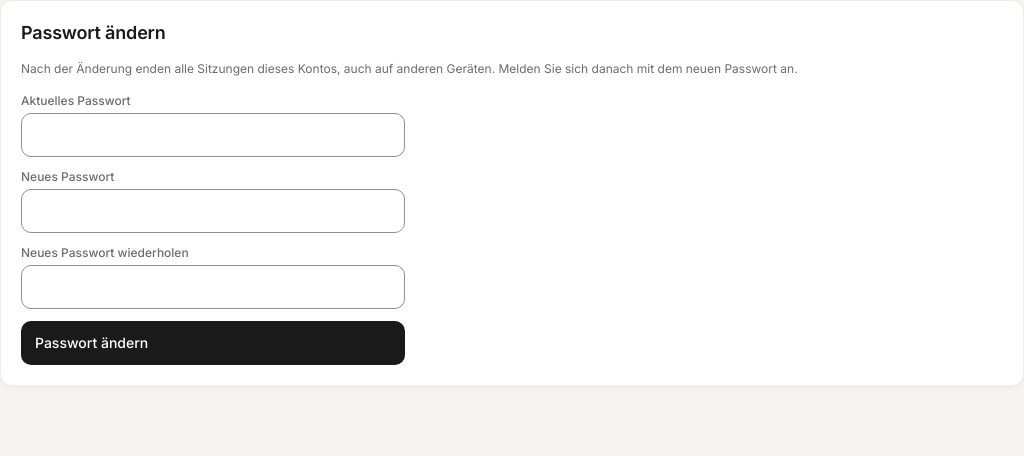
Test: AccountSessions (GAH-305) › refuses differing repetitions without a request
Type "alt-Passwort-1" into the password field labelled "Aktuelles Passwort" at (213, 135), box [21, 113, 405, 157]
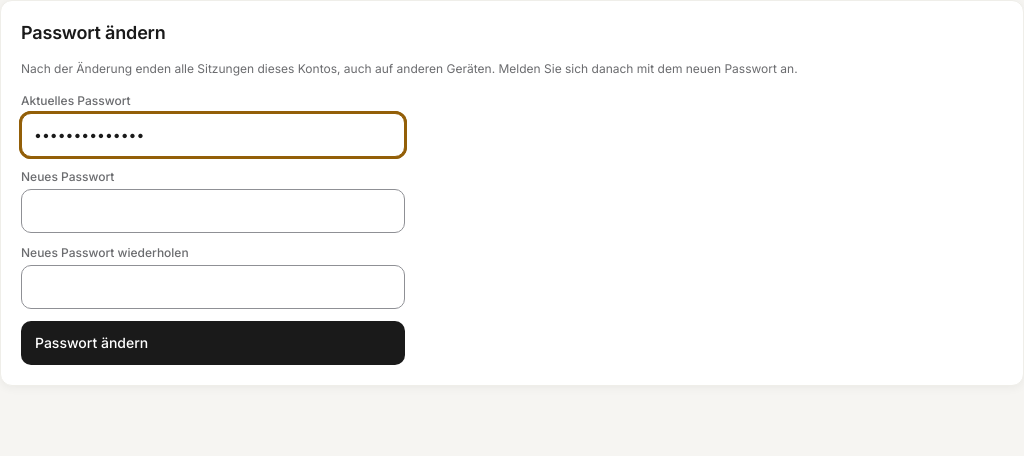
Type "neu-Passwort-12345" into the password field labelled "Neues Passwort" at (213, 211), box [21, 189, 405, 233]
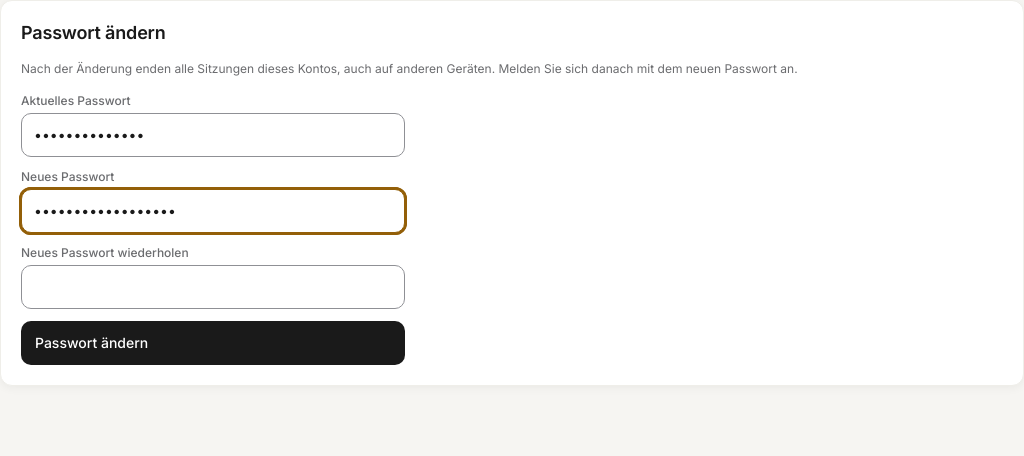
Type "anders-Passwort-1" into the password field labelled "Neues Passwort wiederholen" at (213, 287), box [21, 265, 405, 309]
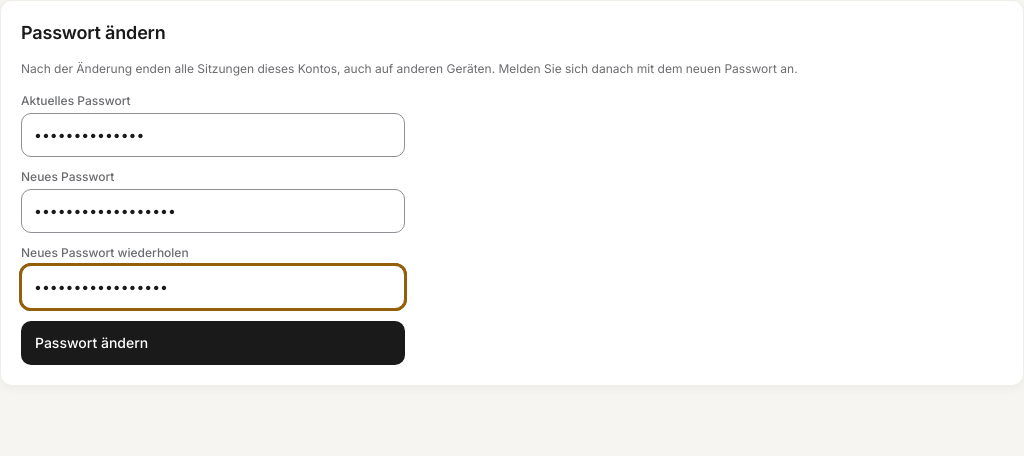
Click the button "Passwort ändern" at (92, 342), box [21, 321, 405, 365]
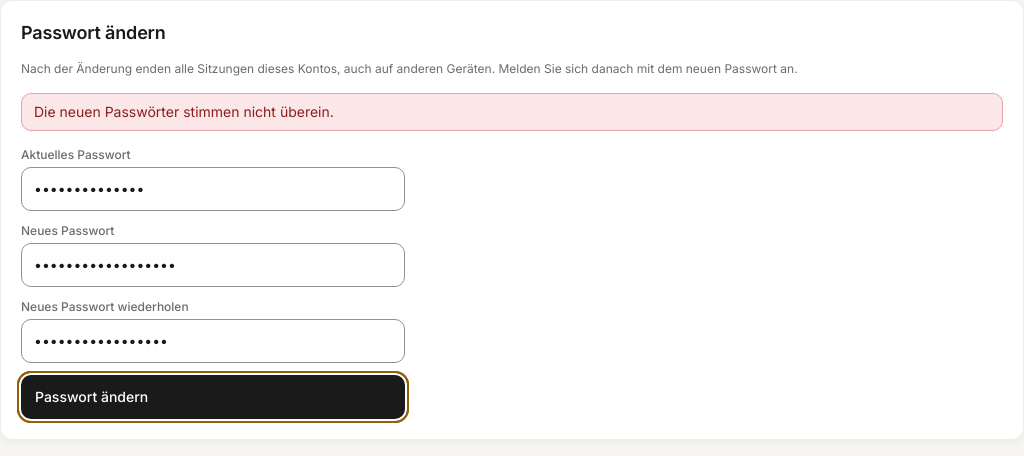
Expected: the message shows "stimmen nicht überein", [34, 103, 334, 120]
